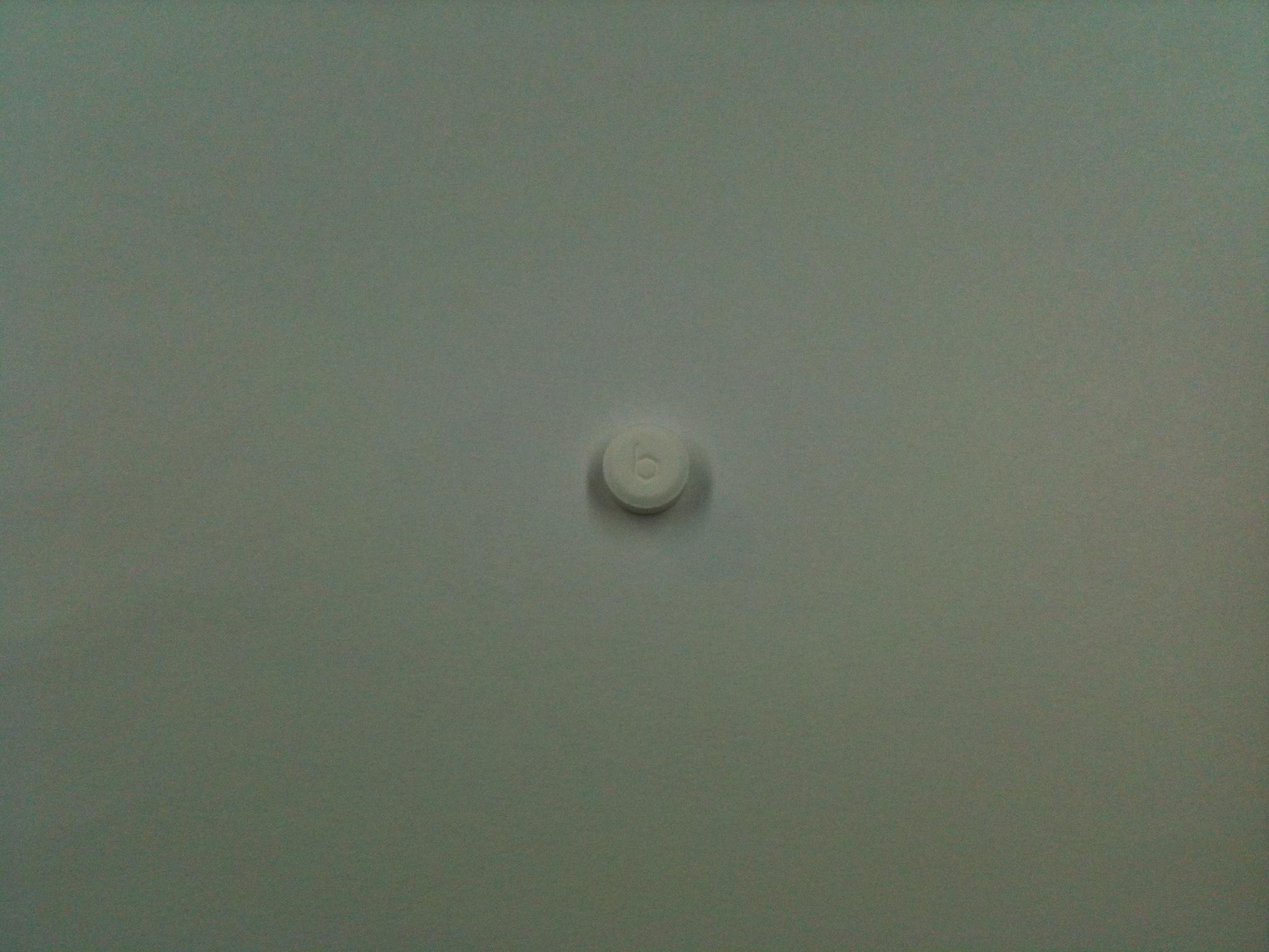Pill: (589, 415, 703, 521)
